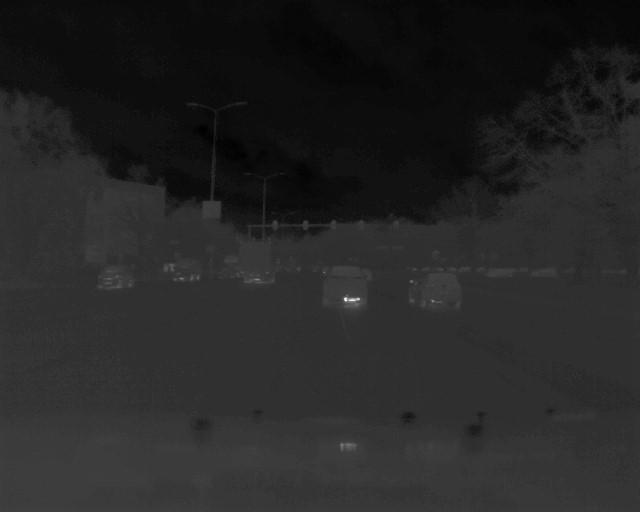car: (406, 272, 463, 308), (321, 264, 367, 308), (94, 261, 141, 294)
